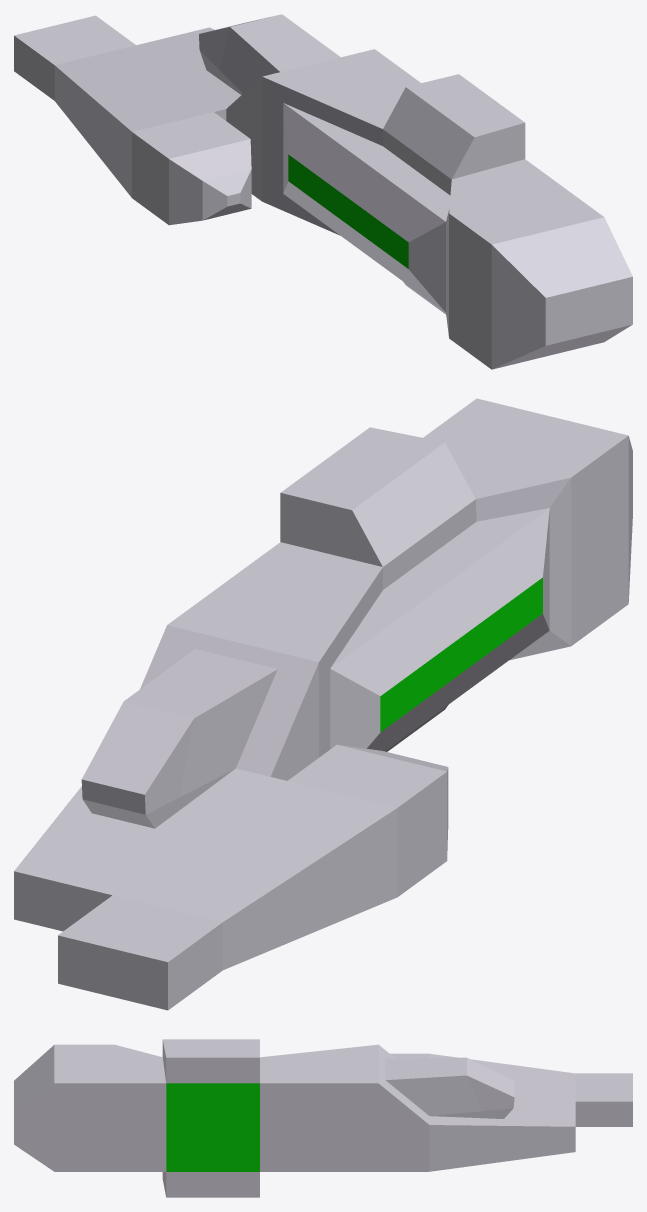
The model's file is Rail Runner.fbx.
The picture shows the model from 3 angles, top to bottom: view 1: azimuth 30°, elevation 25°; view 2: azimuth 150°, elevation 25°; view 3: azimuth 270°, elevation 25°; orthographic projection. The views are drawn at different scales.
Visible parts, largest first — view 1: Rail Runner; view 2: Rail Runner; view 3: Rail Runner.
Boxes of the visible parts, bbox=[...] form: Rail Runner: bbox=[14, 14, 632, 369]; Rail Runner: bbox=[14, 398, 632, 1010]; Rail Runner: bbox=[14, 1039, 632, 1197].
Bounding box in the file's own units: 1.81 × 1.66 × 6.63.
